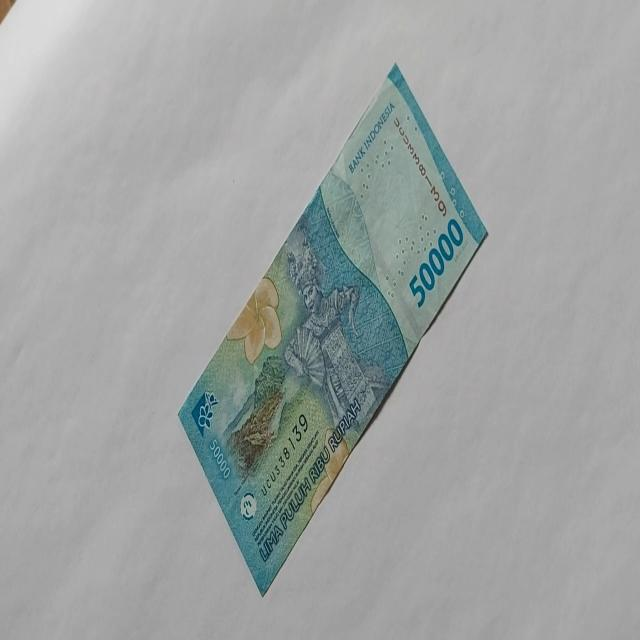lima puluh ribu rupiah: (176, 61, 489, 596), (408, 216, 463, 310)
